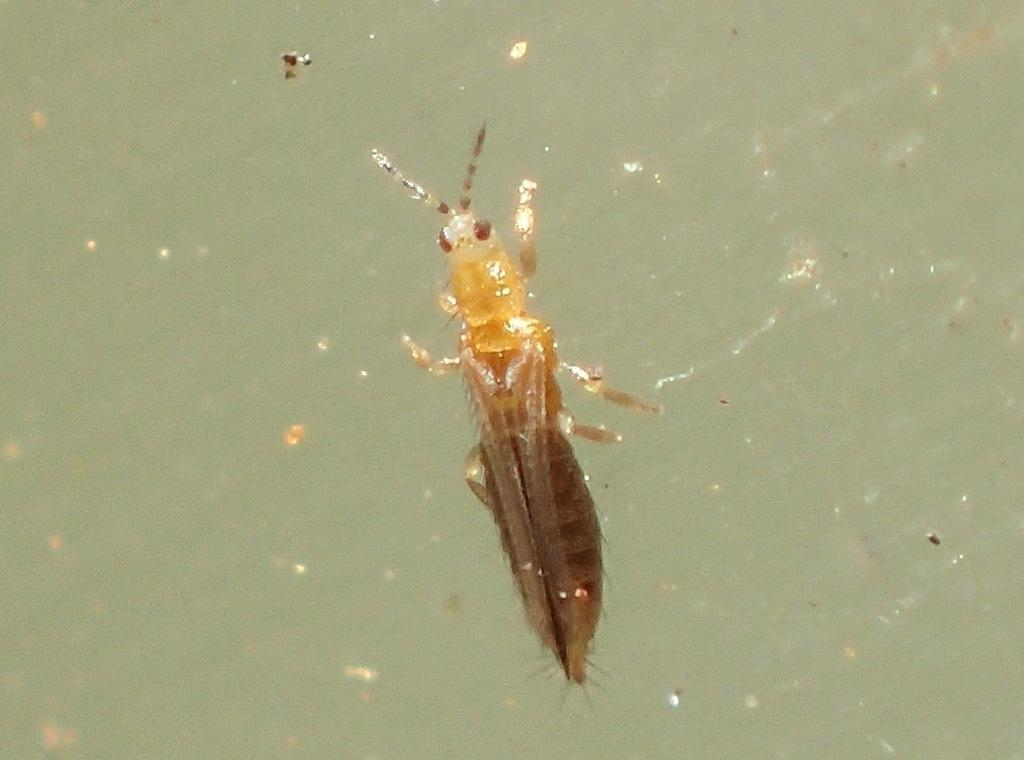tiny_pests: (321, 89, 706, 734)
